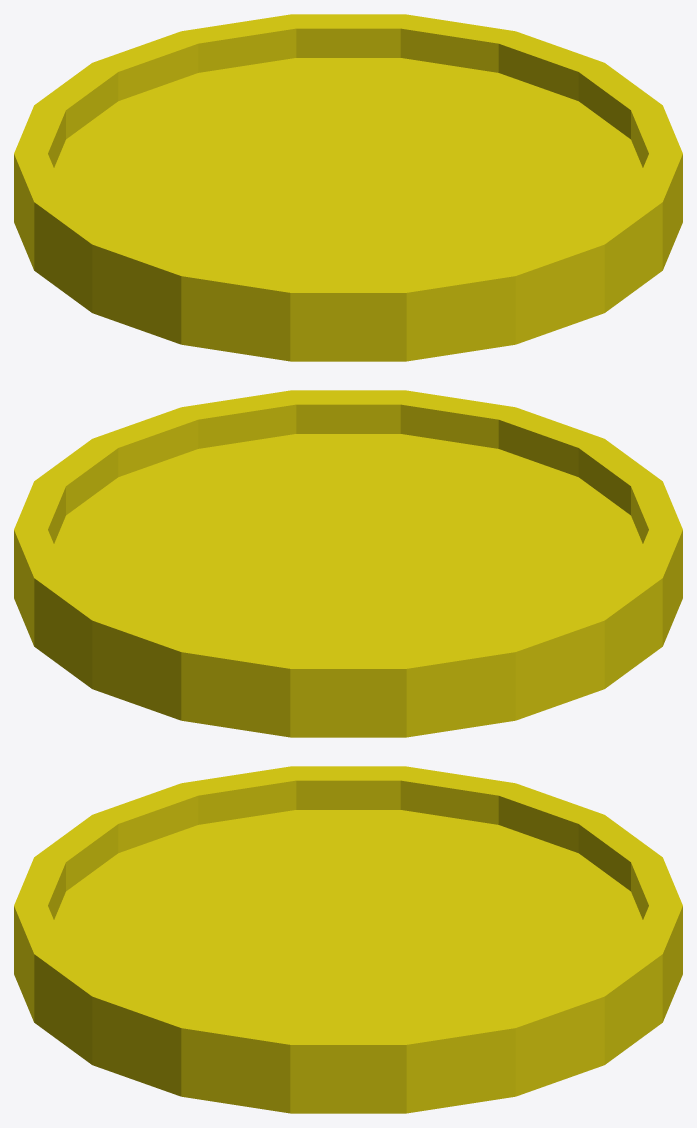
File: gold.glb
The picture shows the model from 3 angles, top to bottom: view 1: azimuth 30°, elevation 25°; view 2: azimuth 150°, elevation 25°; view 3: azimuth 270°, elevation 25°; orthographic projection.
Visible parts, largest first — view 1: Cylinder; view 2: Cylinder; view 3: Cylinder.
Boxes of the visible parts, x1,y1,x2,y2 form: Cylinder: [14, 14, 682, 361]; Cylinder: [14, 390, 682, 737]; Cylinder: [14, 766, 682, 1113].
Bounding box in the file's own units: 1.97 × 0.2263 × 2.
